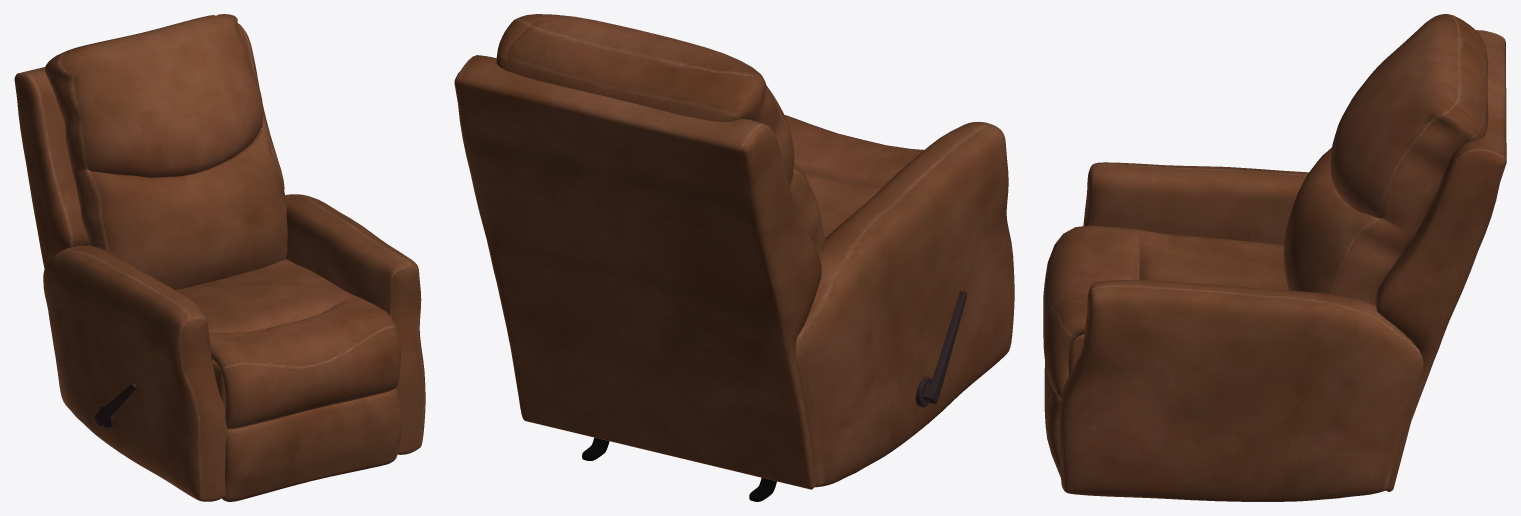
File: abo-B07QCMB9WR.glb
3 renders of one model, left to right at view 1: azimuth 30°, elevation 25°; view 2: azimuth 150°, elevation 25°; view 3: azimuth 270°, elevation 25°, orthographic. The views are drawn at different scales.
Bounding box in the file's own units: 0.821 × 1.02 × 1.07.
1 material, 1 textured.
